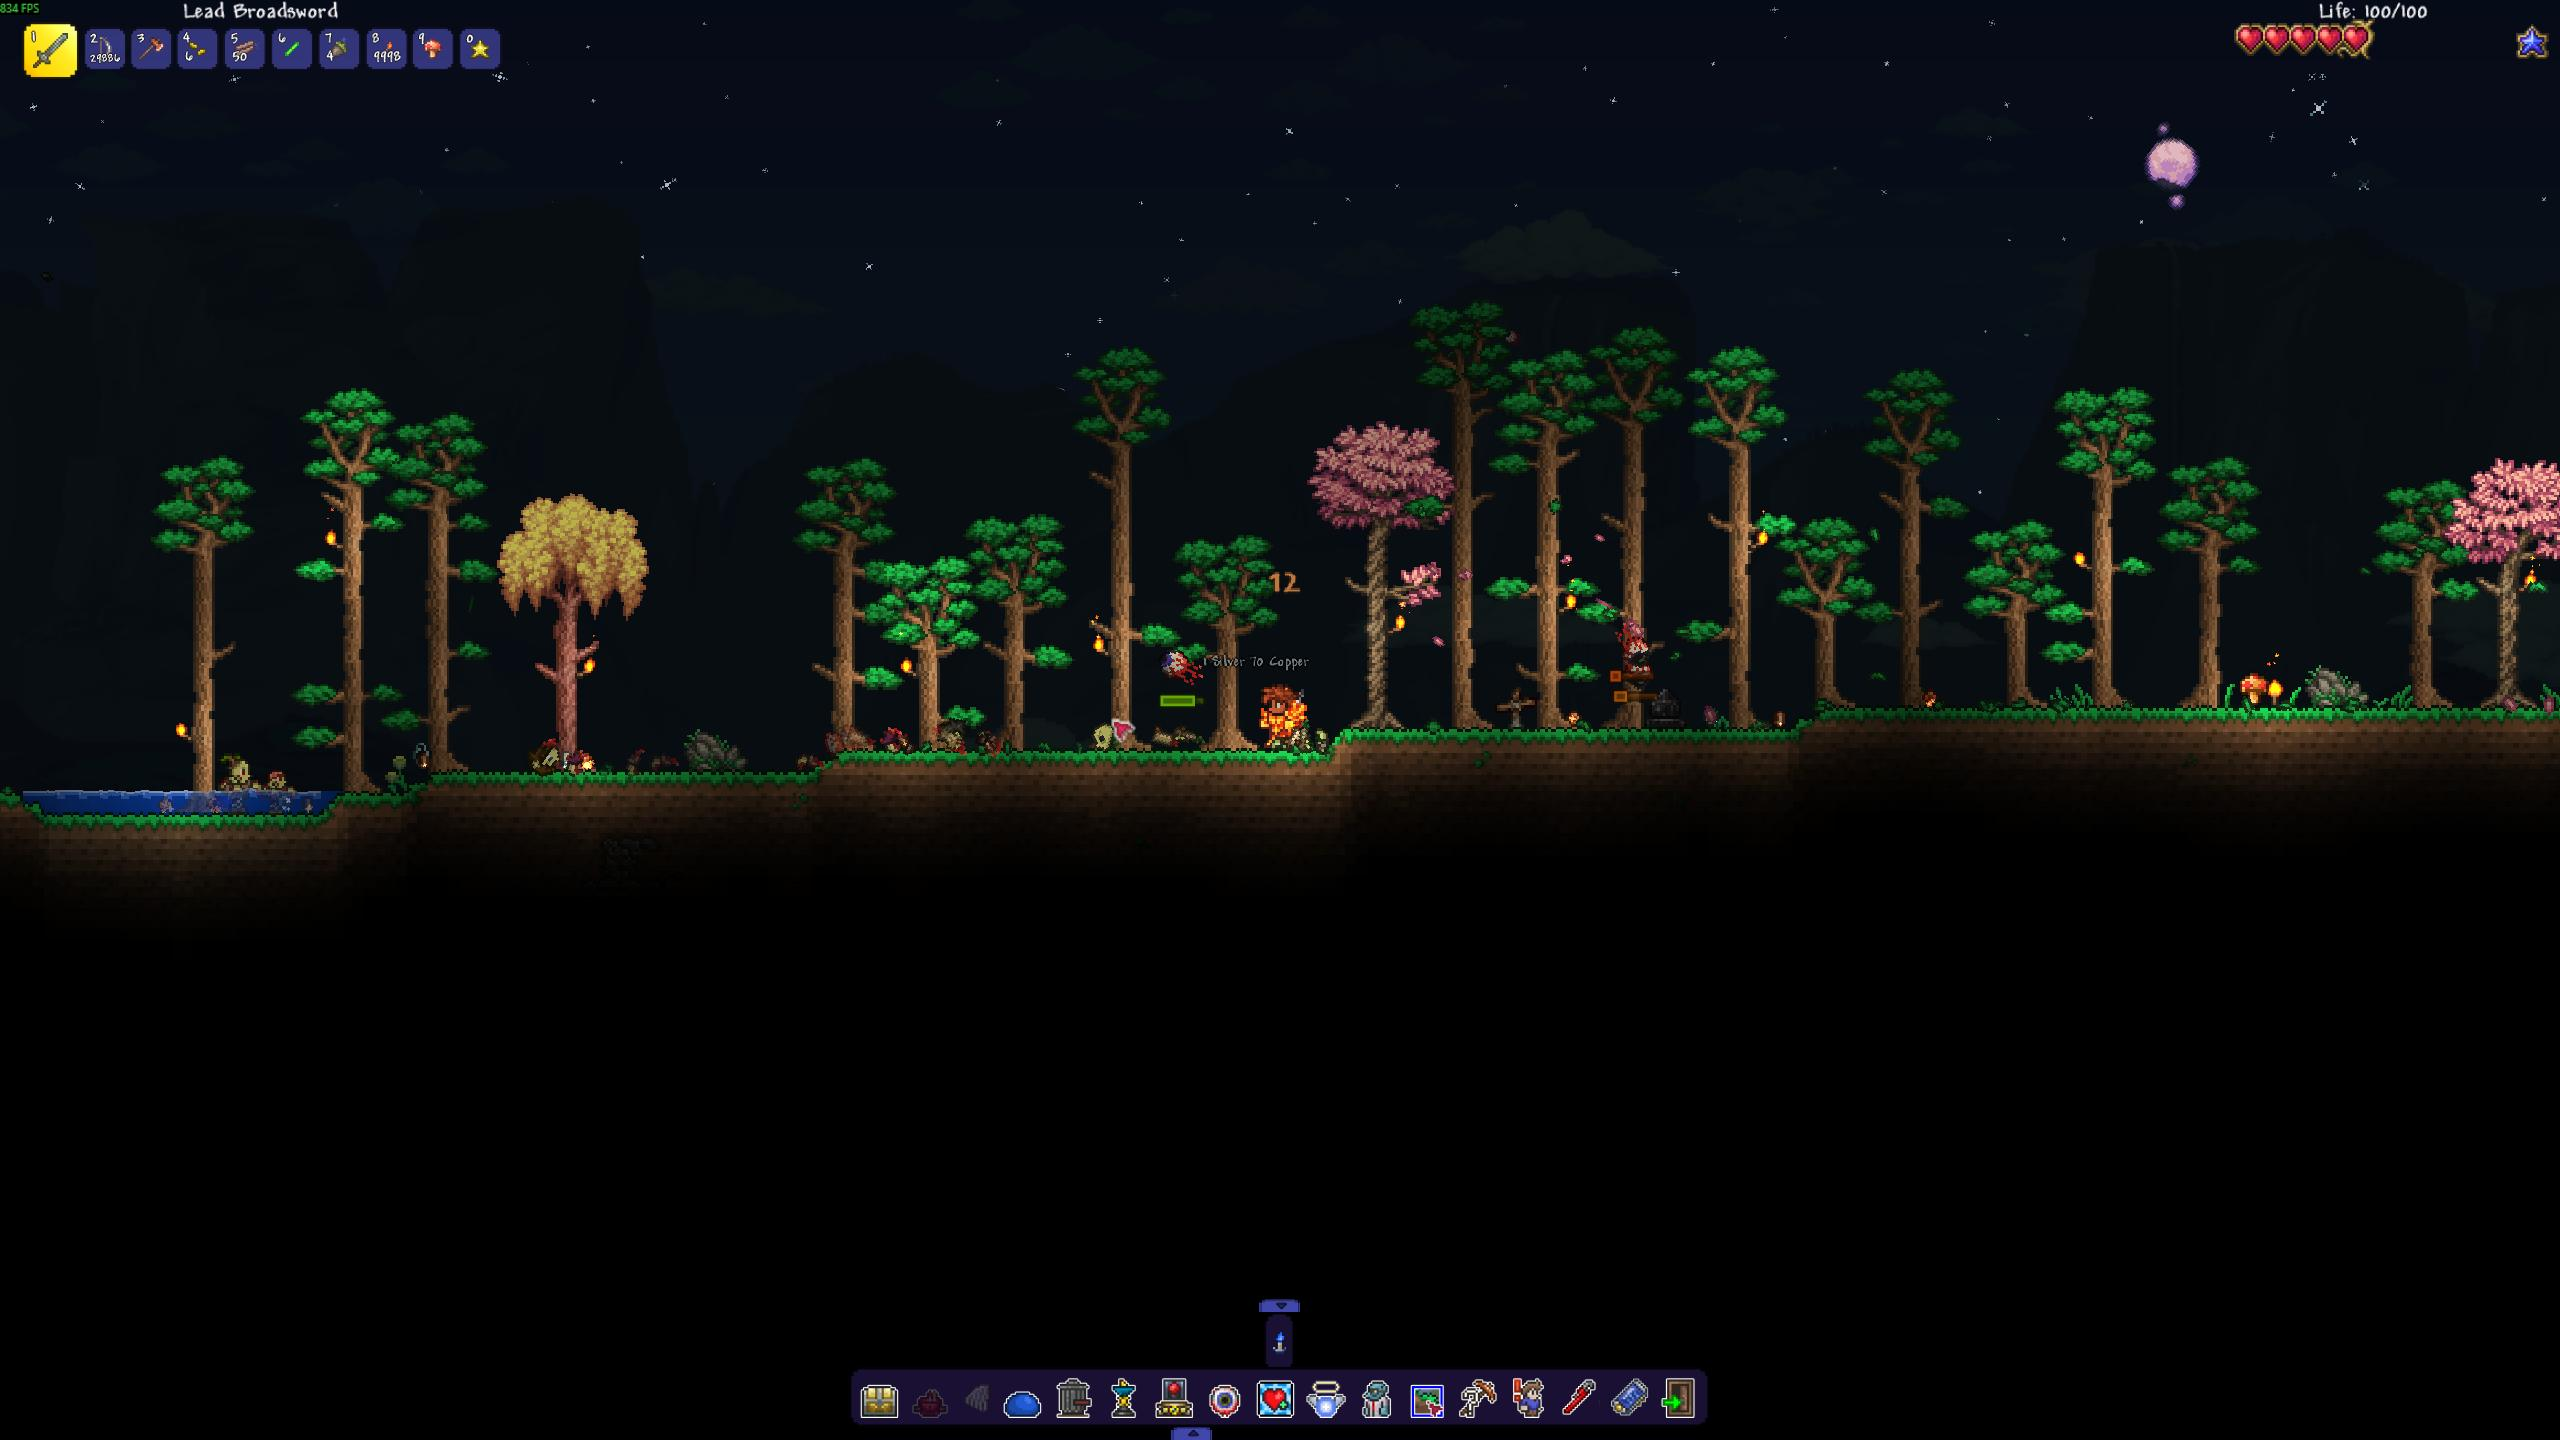Demon Eye: (1157, 638, 1210, 687), (1614, 619, 1653, 663)
Zombie: (216, 749, 258, 811), (258, 767, 295, 816)
